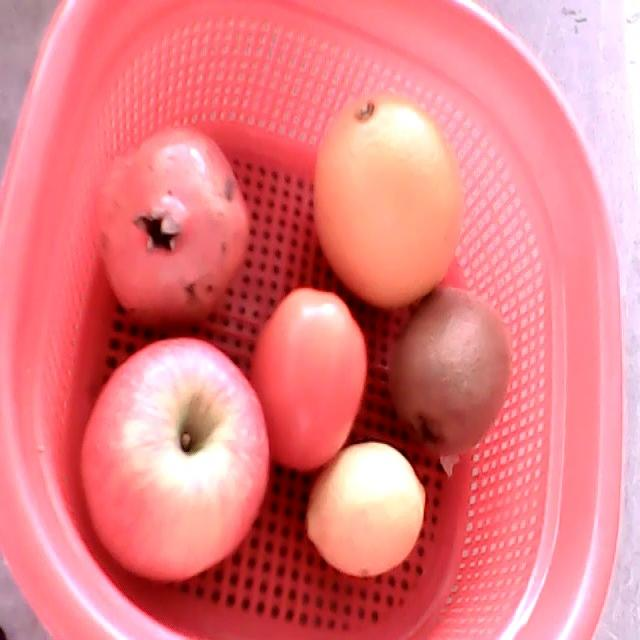apple: (80, 335, 270, 579)
kiwi: (390, 288, 512, 457)
lemon: (305, 441, 426, 574)
orange: (312, 92, 462, 306)
pomegranate: (91, 123, 250, 321)
tomato: (247, 287, 367, 471)
